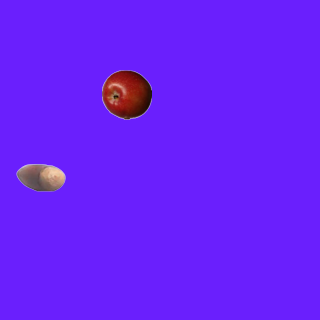Apple Braeburn: (101, 69, 151, 119)
Hazelnut: (15, 152, 65, 202)
